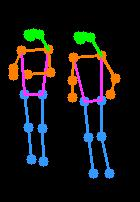normal: (59, 28, 128, 185), (6, 19, 61, 175)
